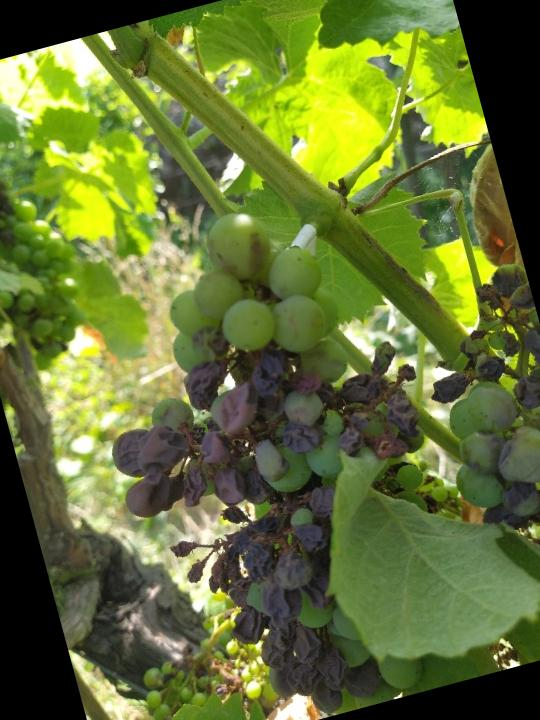grape: (53, 172, 498, 720), (0, 120, 97, 375)
